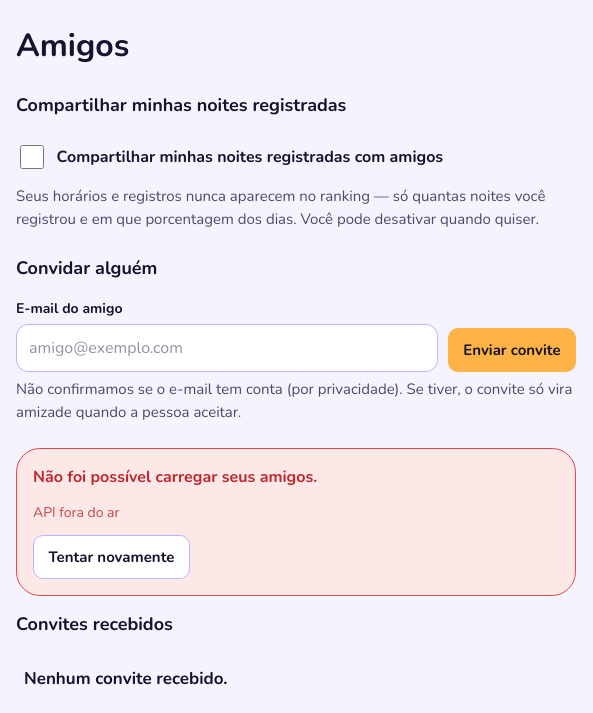
Test: tela de Amigos › limpa o alerta depois de "Tentar novamente" bem-sucedido (#267)
Expected: the message shows "API fora do ar", [33,503,120,522]
Click the button "Tentar novamente": (111, 558) [33,536,190,580]
(page scrolled)
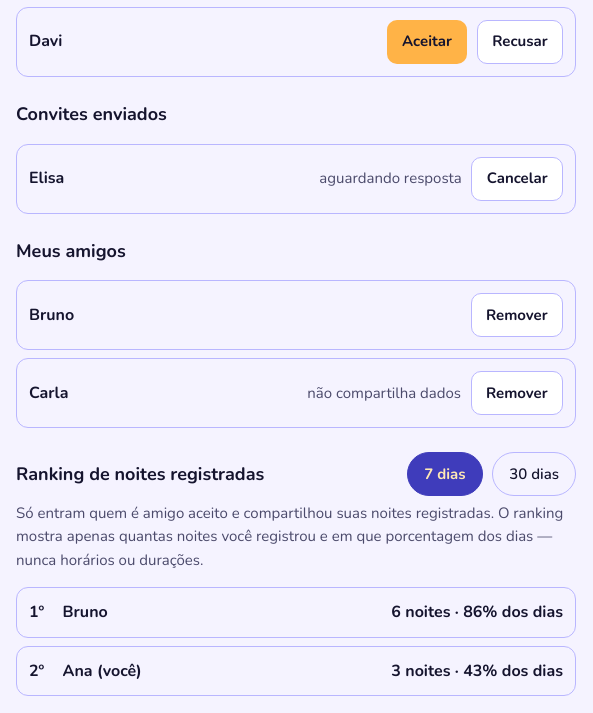
Expected: the text "3 noites · 43% dos dias" is shown, [391,659,563,683]
Expected: the message "Não foi possível carregar seus amigos. API fora do ar Tentar novamente" is gone
